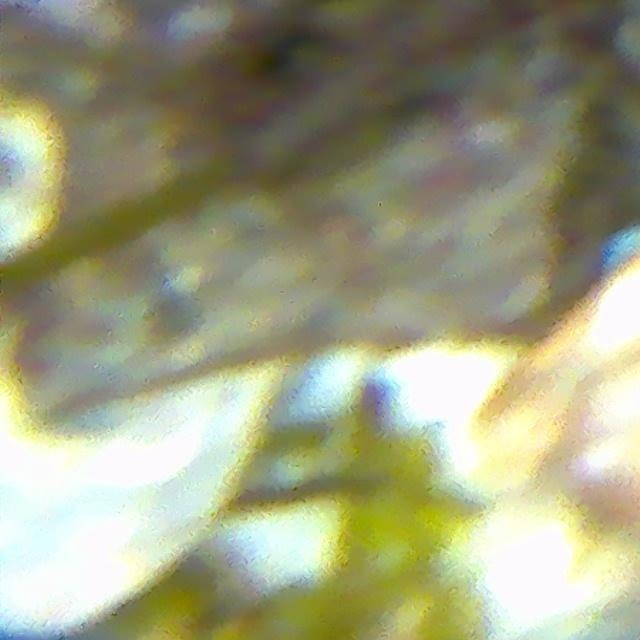SeaGrape: (349, 486, 445, 585)
